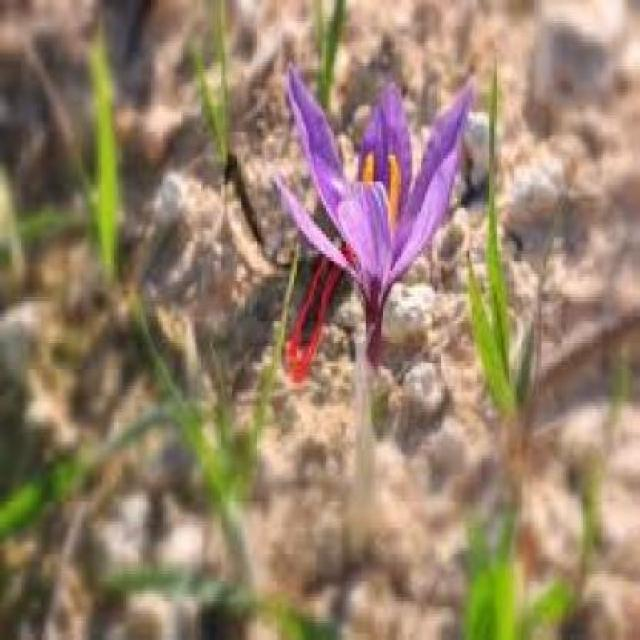saffron open: (286, 69, 467, 416)
